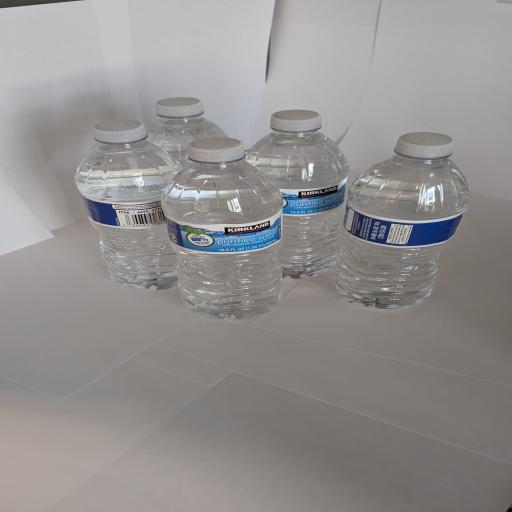waterbottle: (335, 133, 470, 308), (163, 139, 282, 318), (76, 120, 180, 289), (248, 110, 348, 277), (149, 98, 227, 165)
